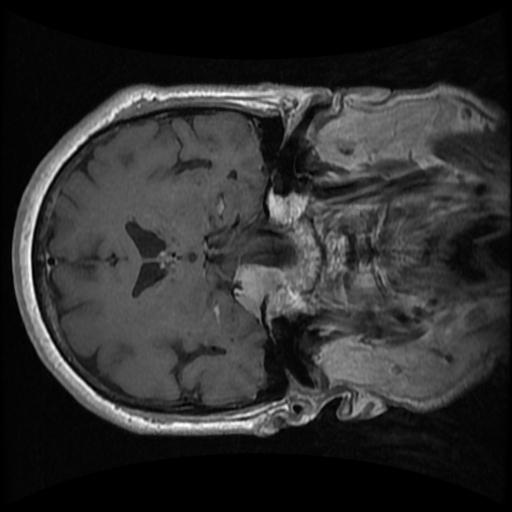meningioma: (232, 262, 290, 319)
